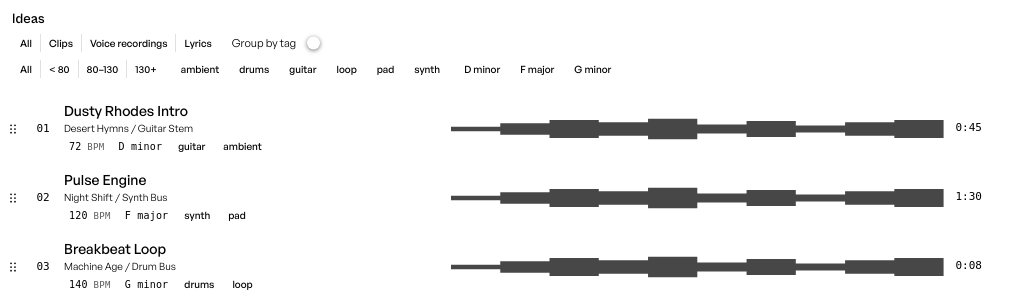
Scenario: IdeasLibrary — label + scale filters › a label chip filters to that label
The width and height of the screenshot is (1024, 307).
Click the button "synth" at (427, 69), box [406,61,448,77]
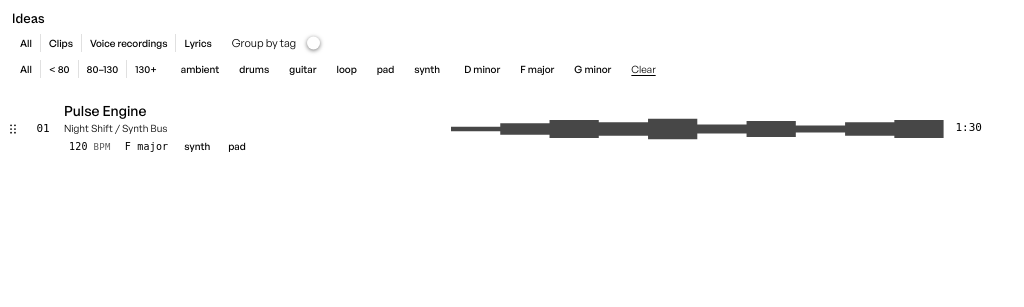
Expected: the text "Pulse Engine" is shown, [64,102,146,120]
Expected: the number of list items with test id "idea-row" is 1, [0,94,1023,163]
